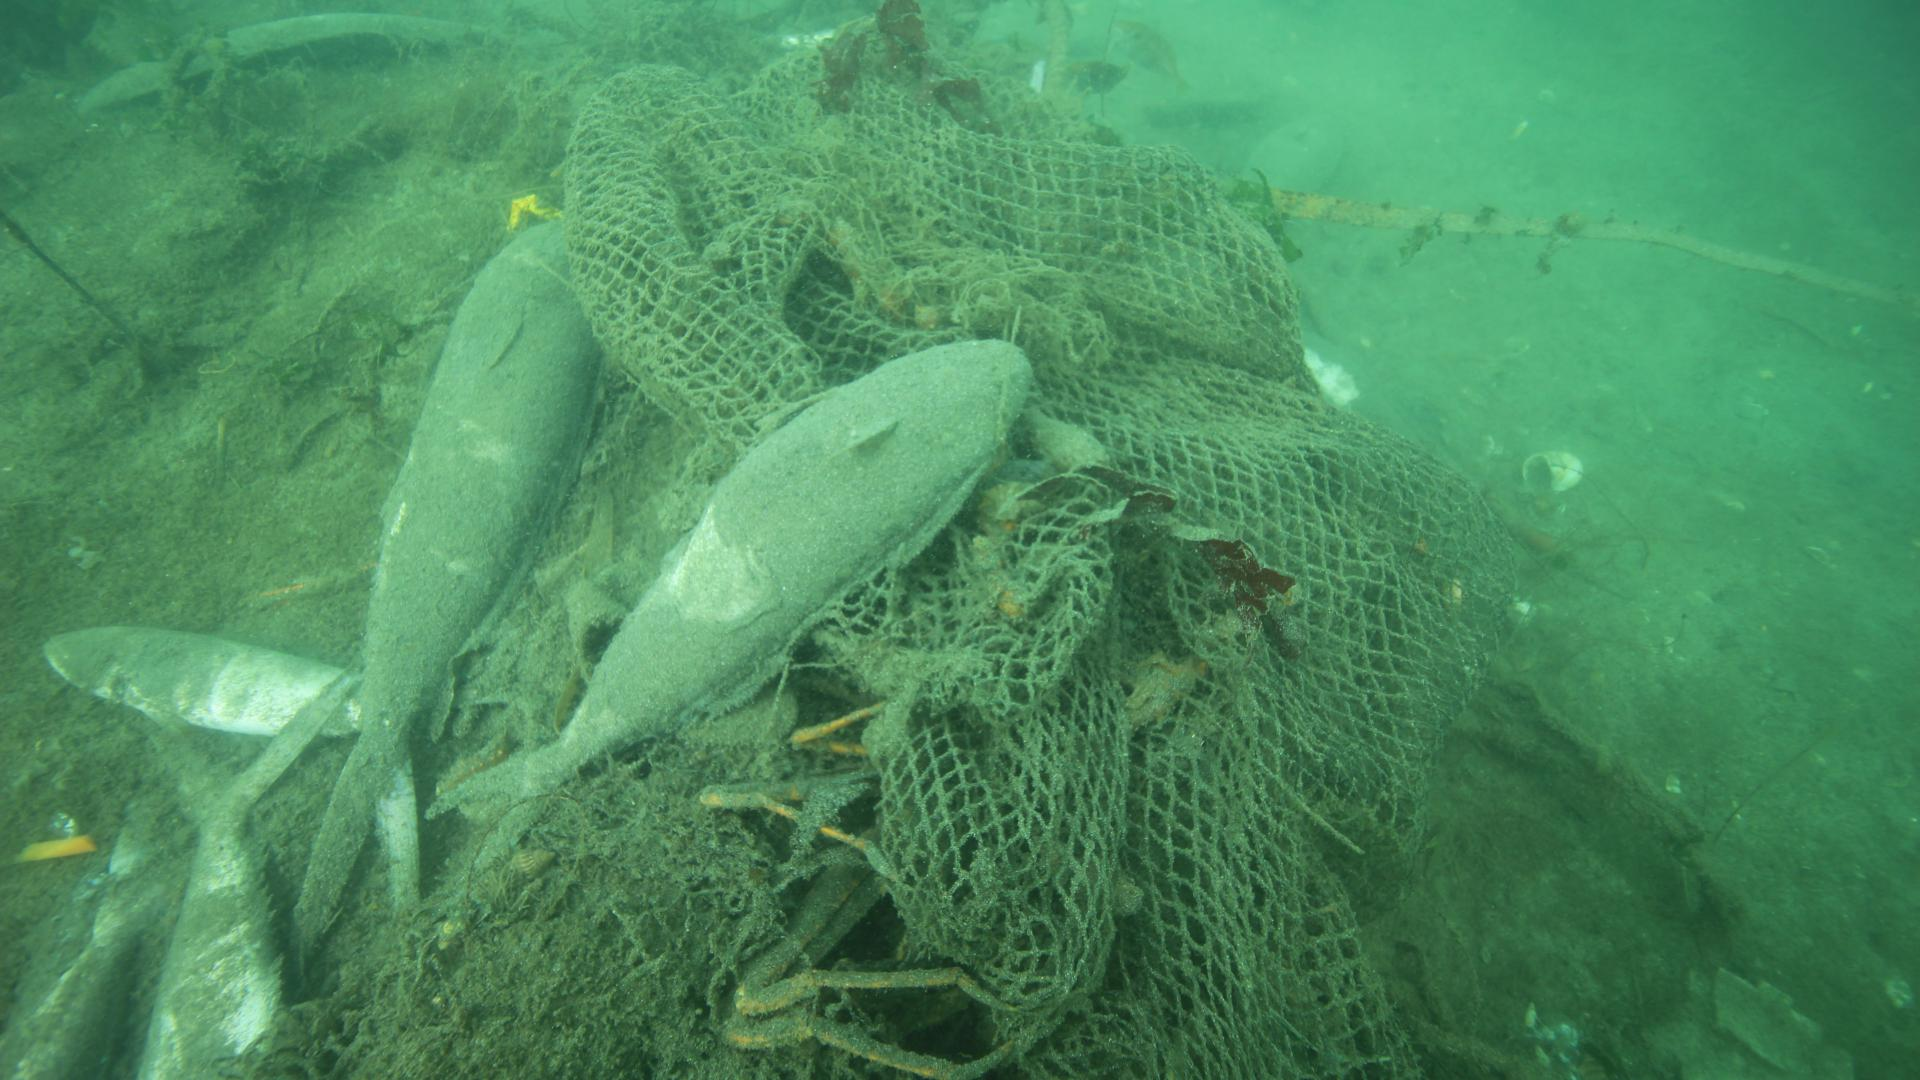fish net: (556, 22, 1519, 1080)
